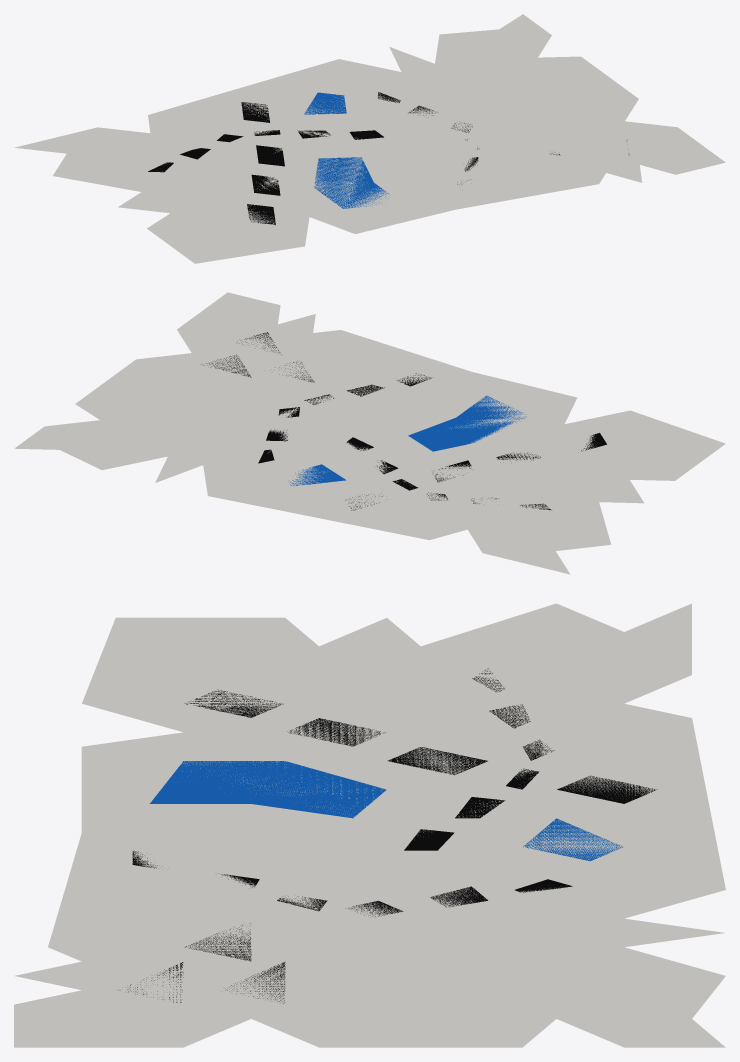
The model's file is inv_crandor_map.obj.
3 renders of one model, top to bottom at view 1: azimuth 30°, elevation 25°; view 2: azimuth 150°, elevation 25°; view 3: azimuth 270°, elevation 25°, orthographic. The views are drawn at different scales.
Bounding box in the file's own units: 0.9688 × 0 × 0.6562.
